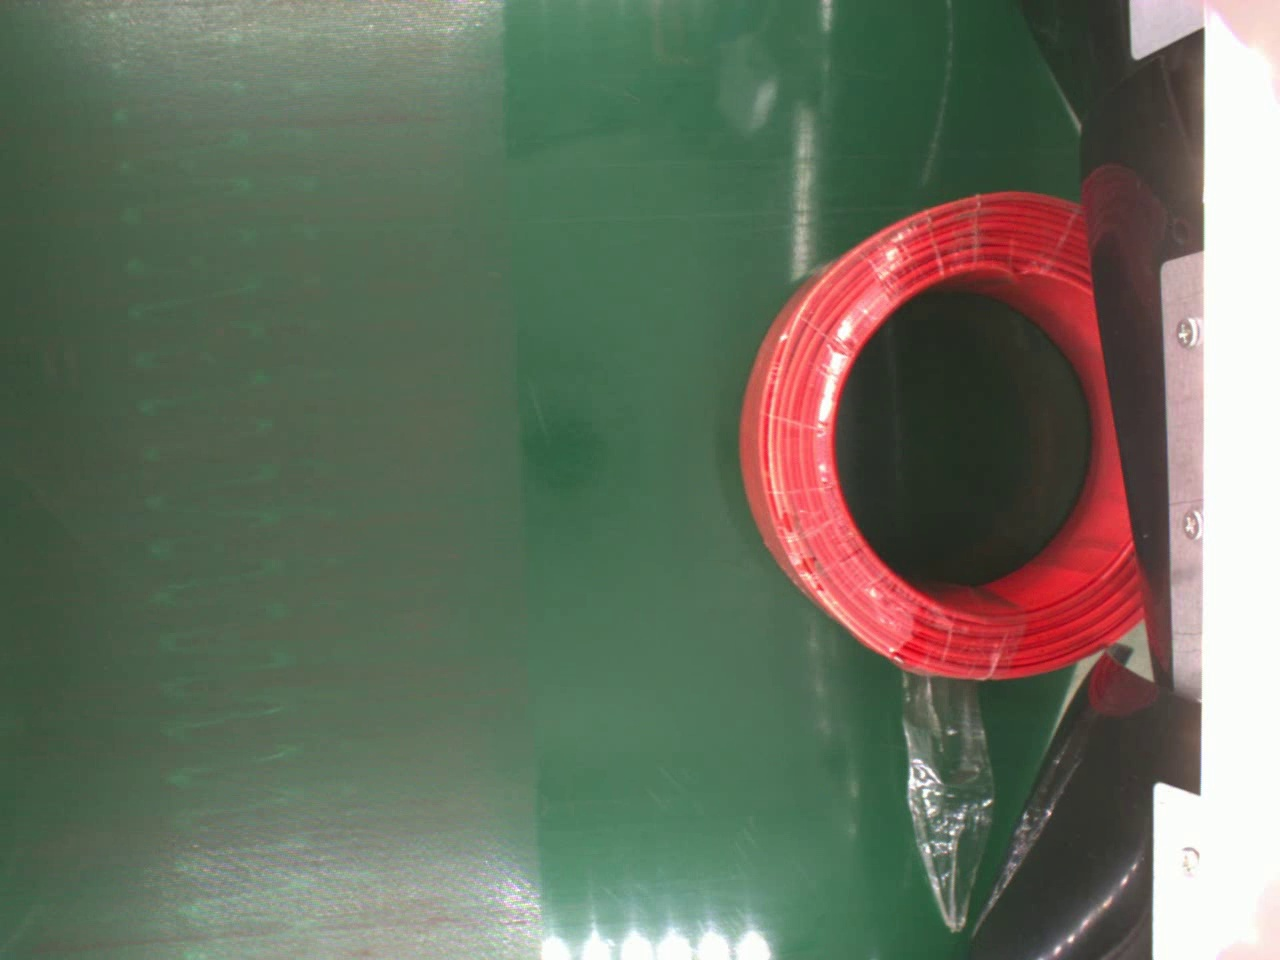red: (735, 182, 1144, 682)
